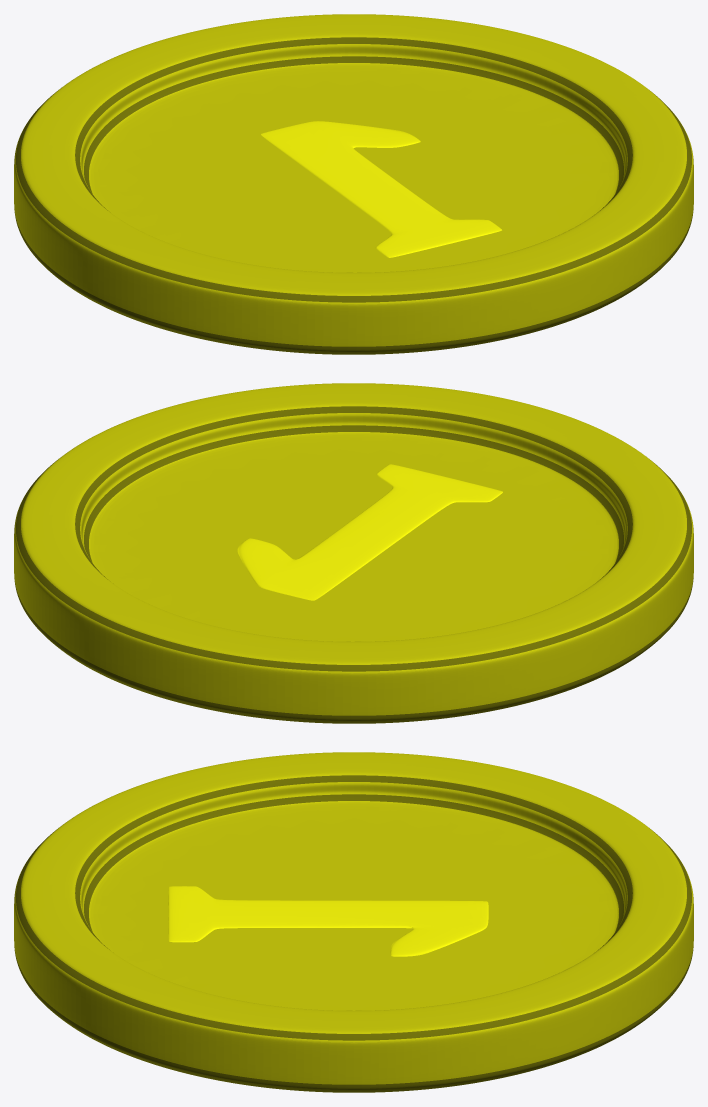
File: Coin.fbx
The picture shows the model from 3 angles, top to bottom: view 1: azimuth 30°, elevation 25°; view 2: azimuth 150°, elevation 25°; view 3: azimuth 270°, elevation 25°; orthographic projection.
Visible parts, largest first — view 1: Circle; view 2: Circle; view 3: Circle.
Boxes of the visible parts, left/top/right/bottom form: Circle: left=14, top=14, right=693, bottom=354; Circle: left=14, top=383, right=693, bottom=723; Circle: left=14, top=752, right=693, bottom=1092.
Size of the model in its own units: 199 by 19.98 by 199.
